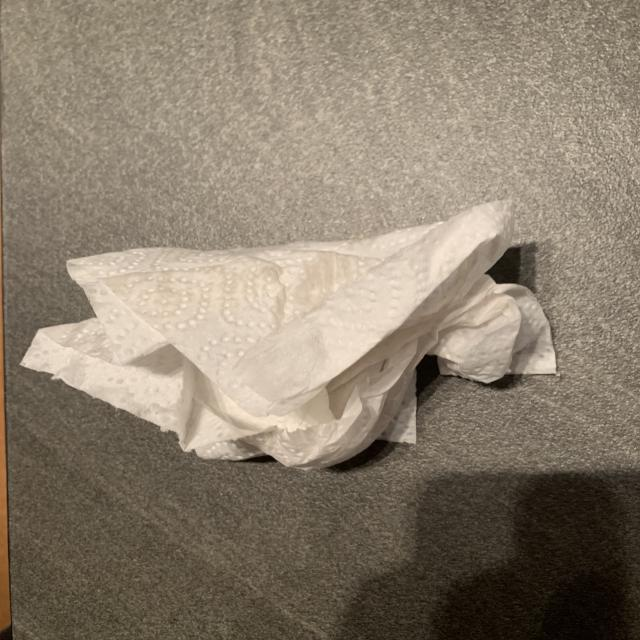kitchen paper: (23, 200, 561, 467)
